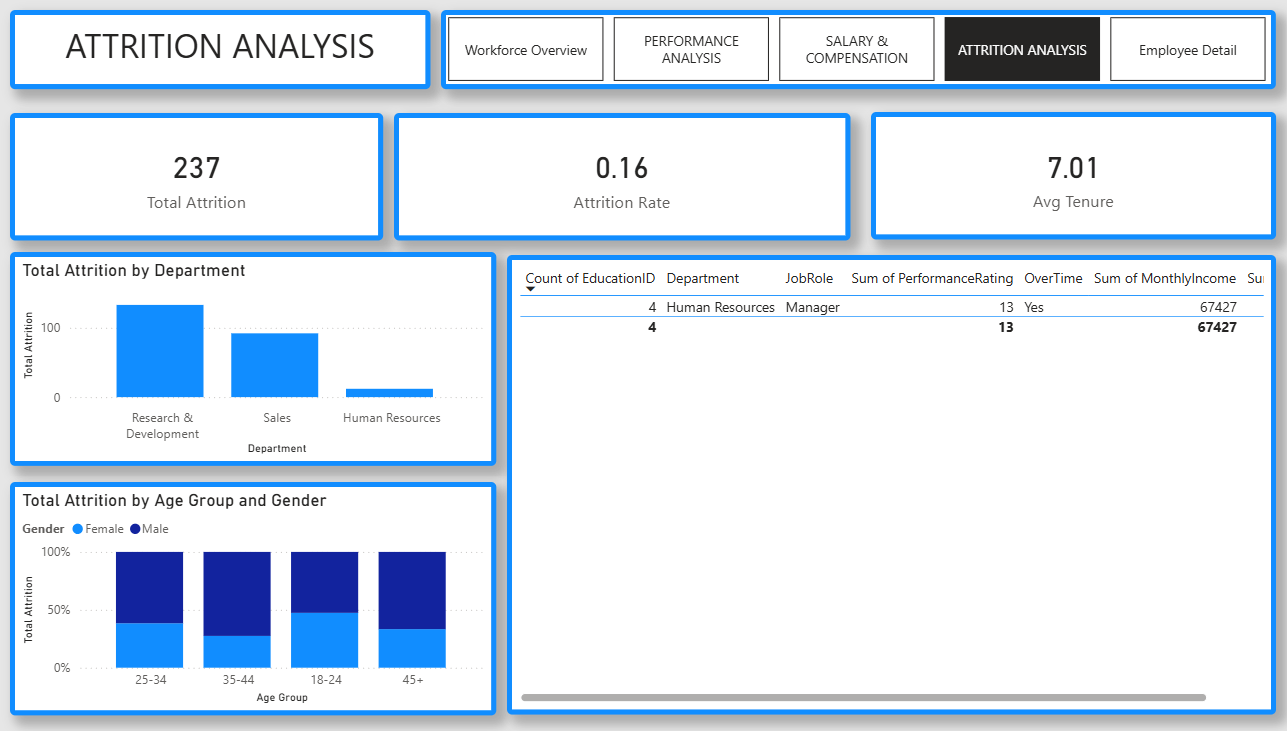

This screenshot's page, from the dashboard's own definition file:
{"tool":"powerbi","page":{"name":"ATTRITION ANALYSIS","canvas":[1280,720],"ordinal":3},"visuals":[{"type":"card","fields":{"Values":["Measuretbl.Total Attrition"]},"box":[22.4,116.7,362.8,123.5],"z":0},{"type":"card","fields":{"Values":["Measuretbl.Attrition Rate"]},"box":[395.9,116.7,443.5,123.5],"z":1000},{"type":"card","fields":{"Values":["Measuretbl.Avg Tenure"]},"box":[859.8,115.7,393.9,124.5],"z":2000},{"type":"clusteredColumnChart","fields":{"Category":["DimDepartment.Department"],"Y":["Measuretbl.Total Attrition"]},"box":[22.4,251.9,472.7,208.1],"z":3000},{"type":"hundredPercentStackedColumnChart","fields":{"Category":["DimAgeGroup.Age Group"],"Series":["FactEmployee.Gender"],"Y":["Measuretbl.Total Attrition"]},"box":[22.4,475.6,472.7,226.6],"z":4000},{"type":"tableEx","fields":{"Values":["CountNonNull(FactEmployee.EducationID)","DimDepartment.Department","DimJobRole.JobRole","Sum(FactEmployee.PerformanceRating)","FactEmployee.OverTime","Sum(FactEmployee.MonthlyIncome)","Sum(FactEmployee.Age)"]},"box":[505.8,254.8,748,447.4],"z":5000},{"type":"textbox","box":[22.4,16.3,408.5,76.8],"z":6000},{"type":"pageNavigator","box":[441.6,16.3,812.2,76.8],"z":7000}]}

Visuals, with their boxes in screenshot pixels (x1, y1, x2, y2), scaled from the page's 1280x720 canvas onto the 1287x731 screenshot:
card - Measuretbl.Total Attrition: 23,118,387,244
card - Measuretbl.Attrition Rate: 398,118,844,244
card - Measuretbl.Avg Tenure: 865,117,1261,244
clusteredColumnChart - DimDepartment.Department x Measuretbl.Total Attrition: 23,256,498,467
hundredPercentStackedColumnChart - DimAgeGroup.Age Group x FactEmployee.Gender: 23,483,498,713
tableEx - CountNonNull(FactEmployee.EducationID) x DimDepartment.Department: 509,259,1261,713
textbox: 23,17,433,95
pageNavigator: 444,17,1261,95
